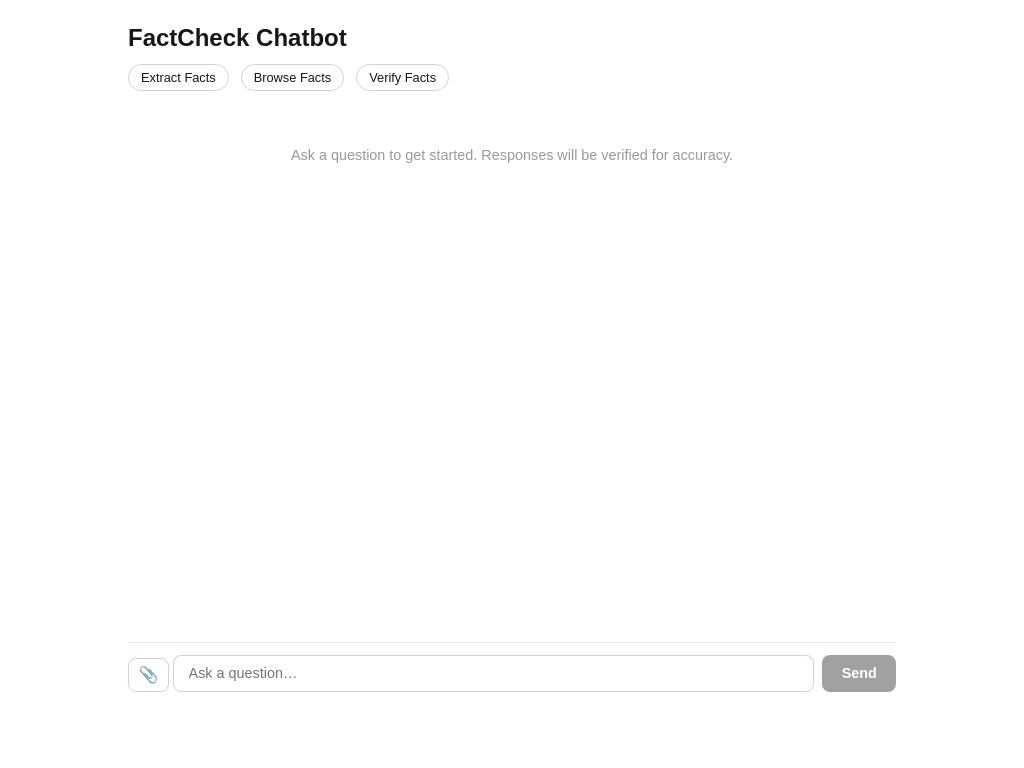
Test: ChatGPT integration – end-to-end user session › shows a verified badge when ChatGPT returns a verified response
Type "At what temperature does water freeze?" into the field named "chat input" at (494, 673), box [173,655,814,692]
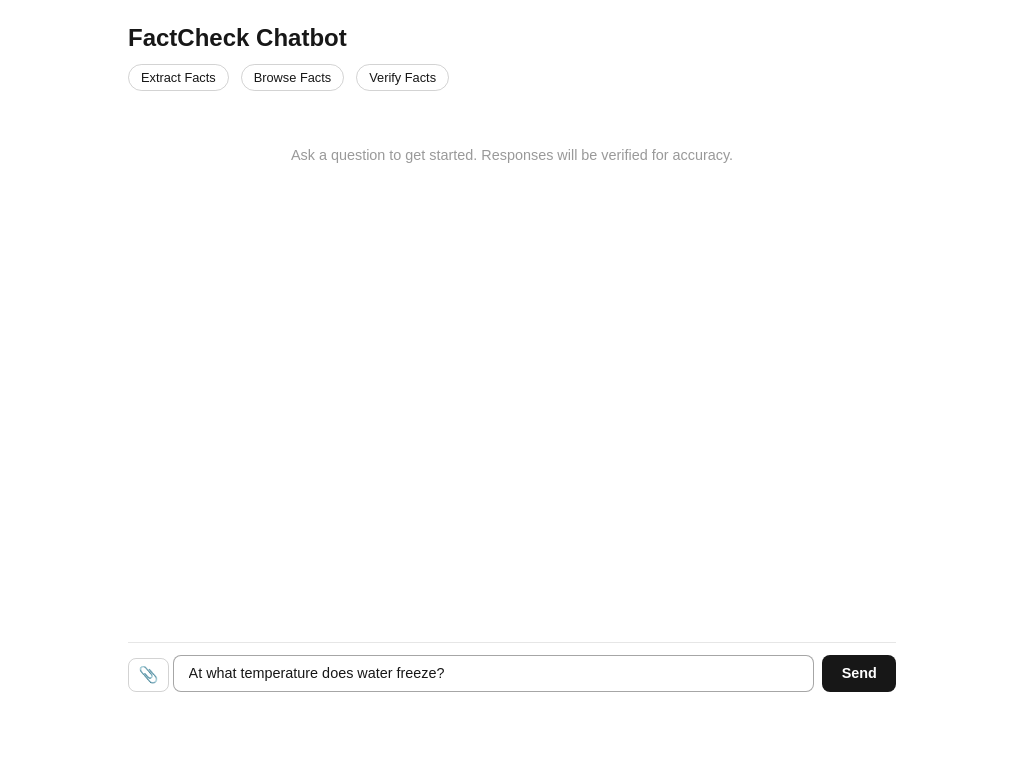
Click the button with aria-label "send message" at (859, 673), box [822,655,896,692]
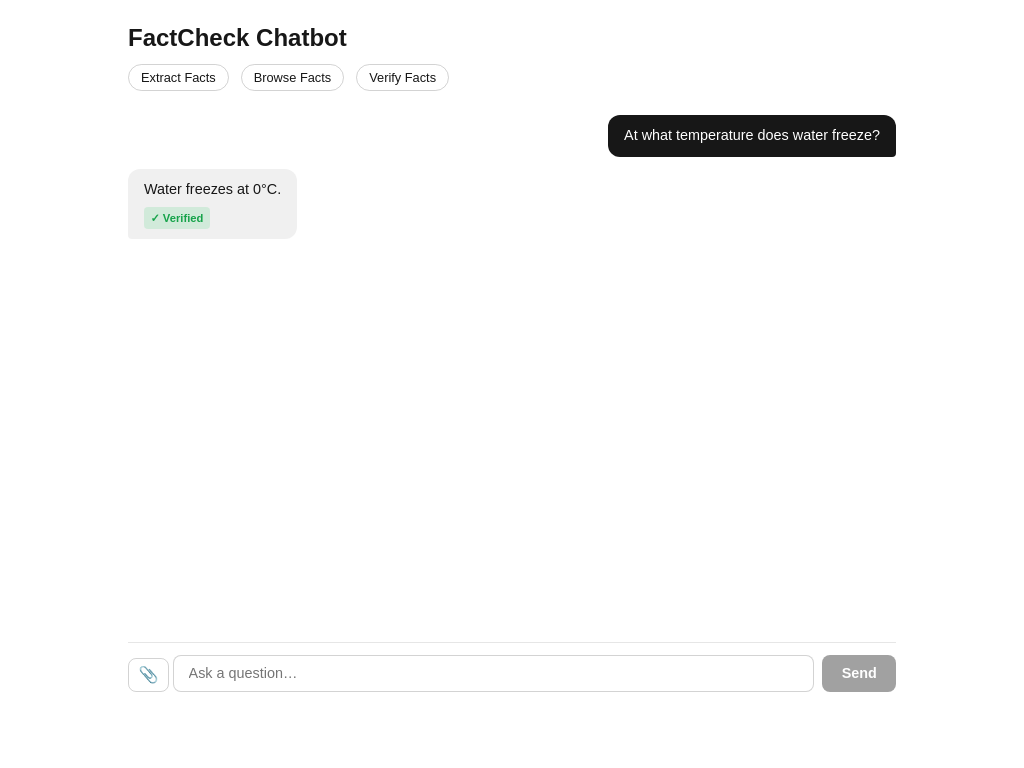
Expected: the picture named "fact verification status: verified" is shown, [144,207,210,229]
